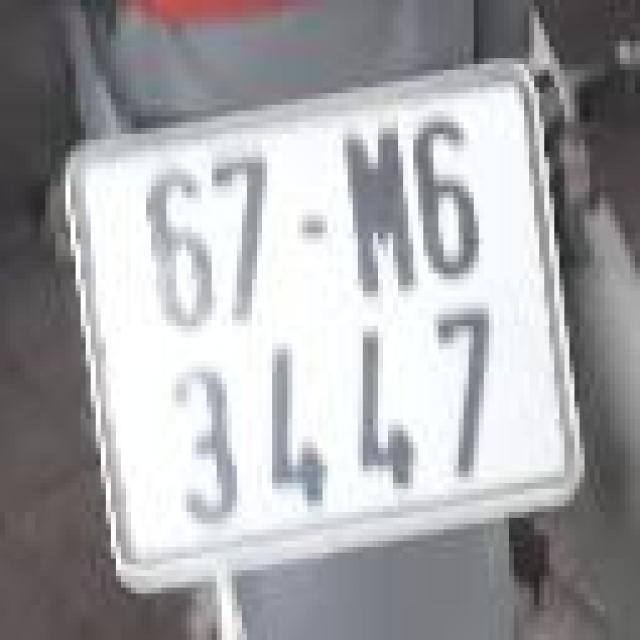3: (154, 352, 234, 550)
4: (252, 332, 348, 518), (348, 317, 423, 503)
6: (129, 154, 209, 335), (408, 102, 484, 282)
7: (209, 146, 285, 338), (438, 302, 499, 483)
M: (338, 128, 418, 291)
